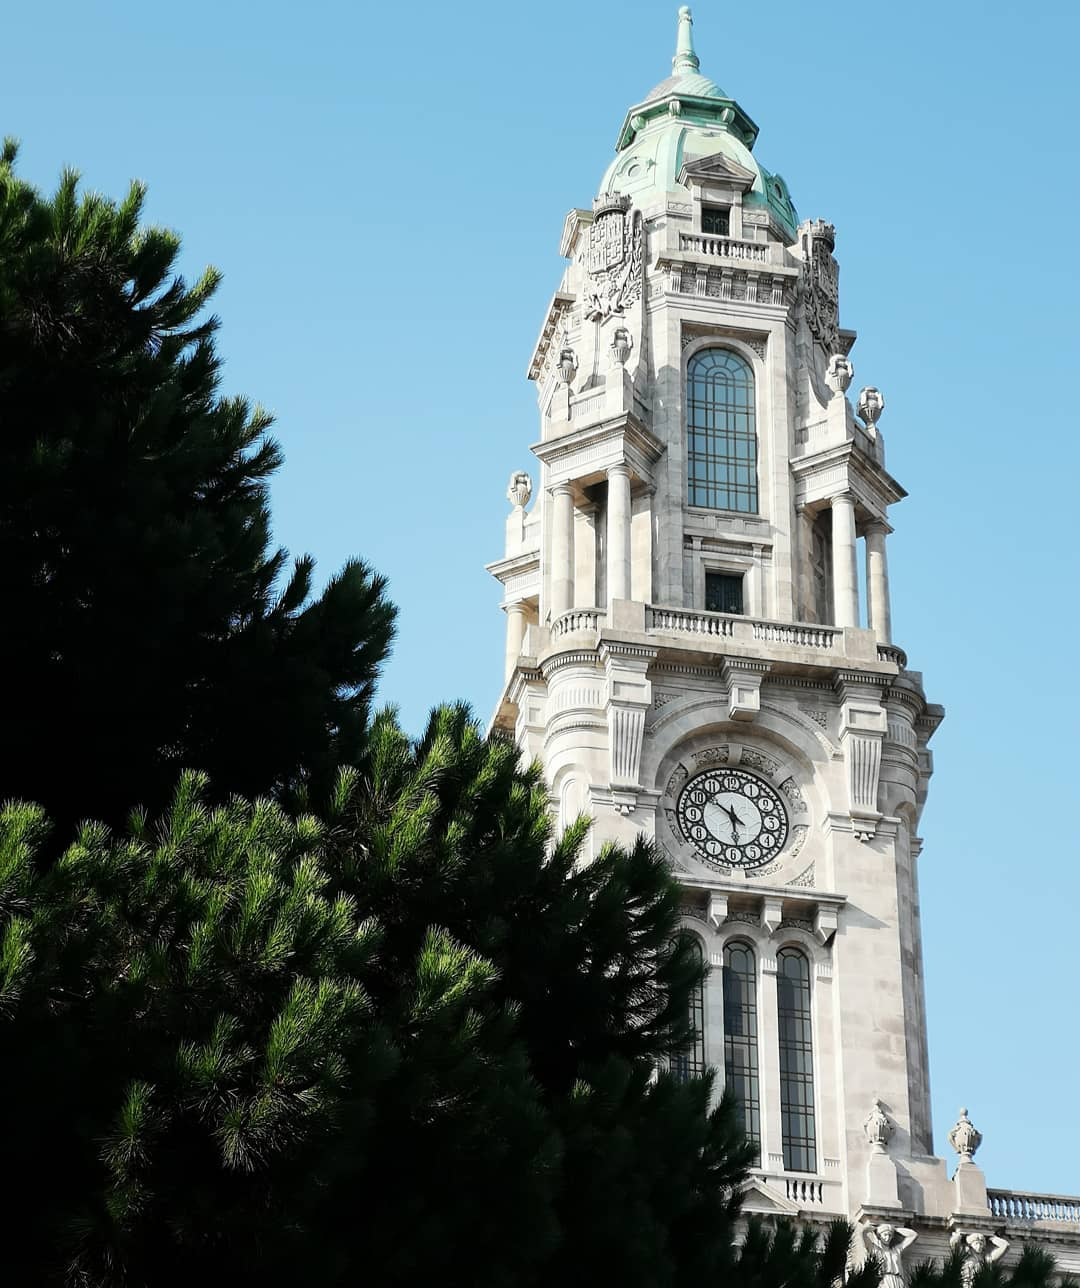camara: (484, 8, 1079, 1287)
